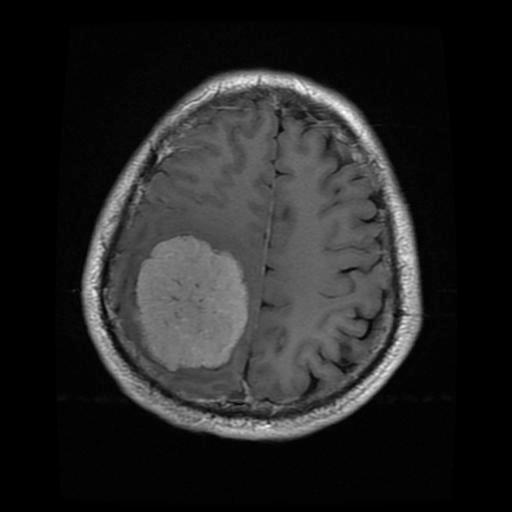Tumour-Meningioma: (135, 224, 252, 390)
